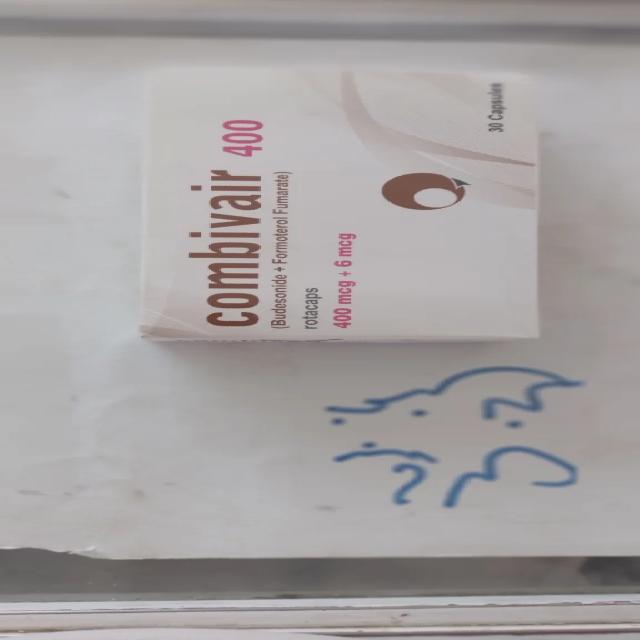drug-name: (188, 112, 266, 330)
